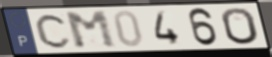0: (111, 9, 146, 49)
4: (153, 10, 182, 46)
6: (186, 7, 219, 48)
C: (34, 12, 74, 50)
M: (63, 10, 120, 51)
O: (219, 6, 261, 46)
